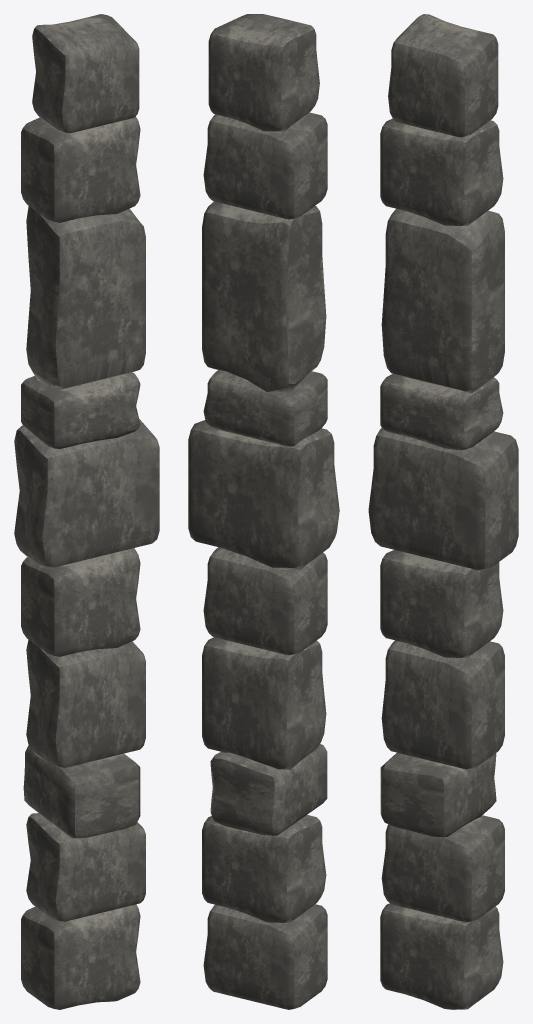
File: StoneWall_Trim.fbx
3 renders of one model, left to right at view 1: azimuth 30°, elevation 25°; view 2: azimuth 150°, elevation 25°; view 3: azimuth 330°, elevation 25°, orthographic.
Visible parts, largest first — view 1: SM_StoneTrim; view 2: SM_StoneTrim; view 3: SM_StoneTrim.
Boxes of the visible parts, x1,y1,x2,y2 form: SM_StoneTrim: (14, 14, 159, 1009); SM_StoneTrim: (188, 14, 339, 1009); SM_StoneTrim: (368, 14, 518, 1009).
Bounding box in the file's own units: 29.54 × 219 × 22.91.
